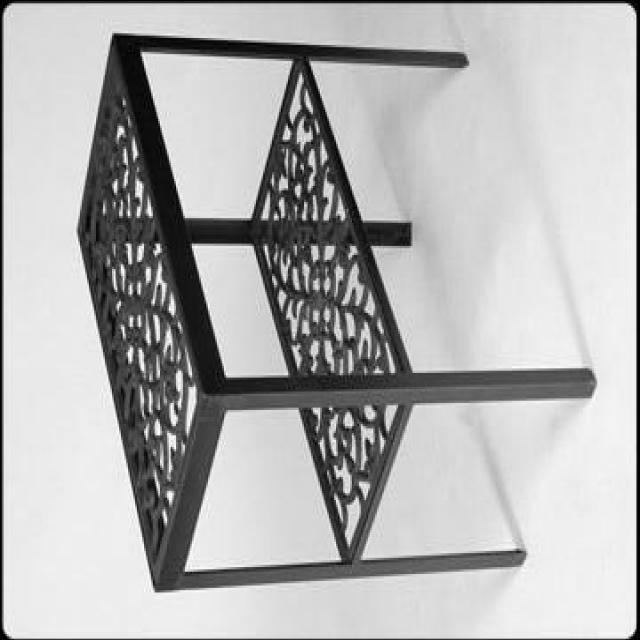table: (75, 30, 595, 592)
